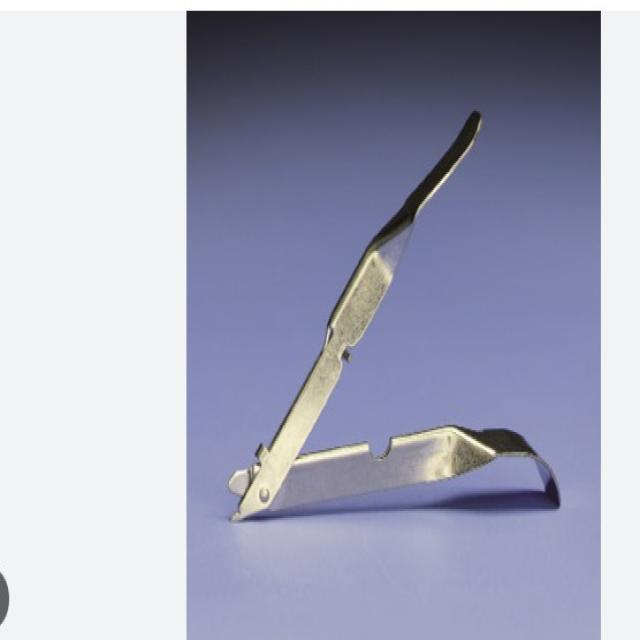Stapler Remover: (228, 100, 564, 523)
